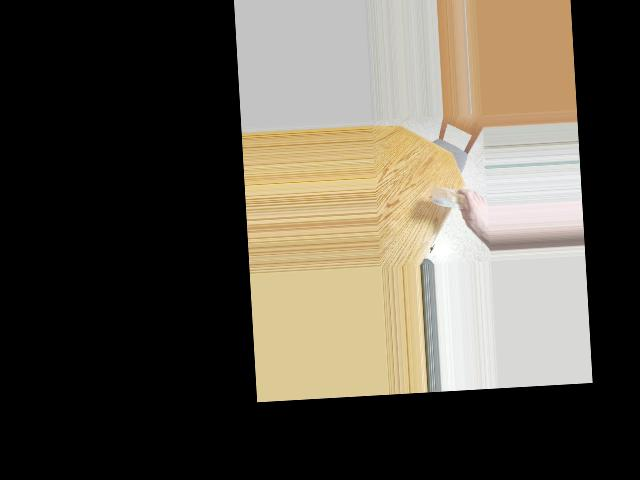cheese: (433, 184, 467, 217)
